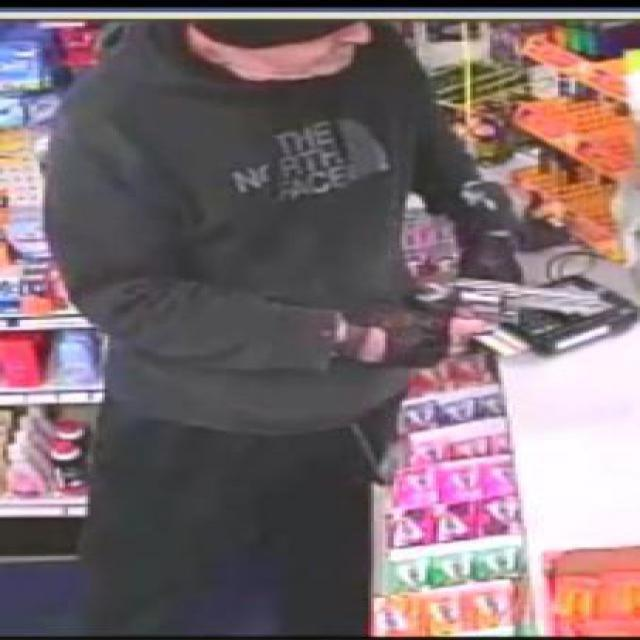weapon: (412, 272, 614, 352)
